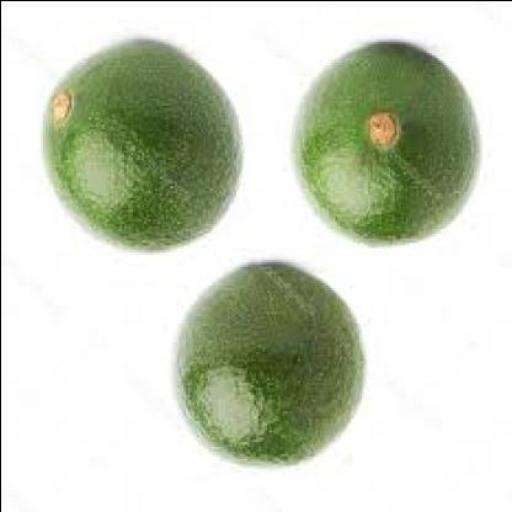biodegradable: (37, 40, 242, 254), (167, 260, 362, 467), (290, 40, 477, 249)
